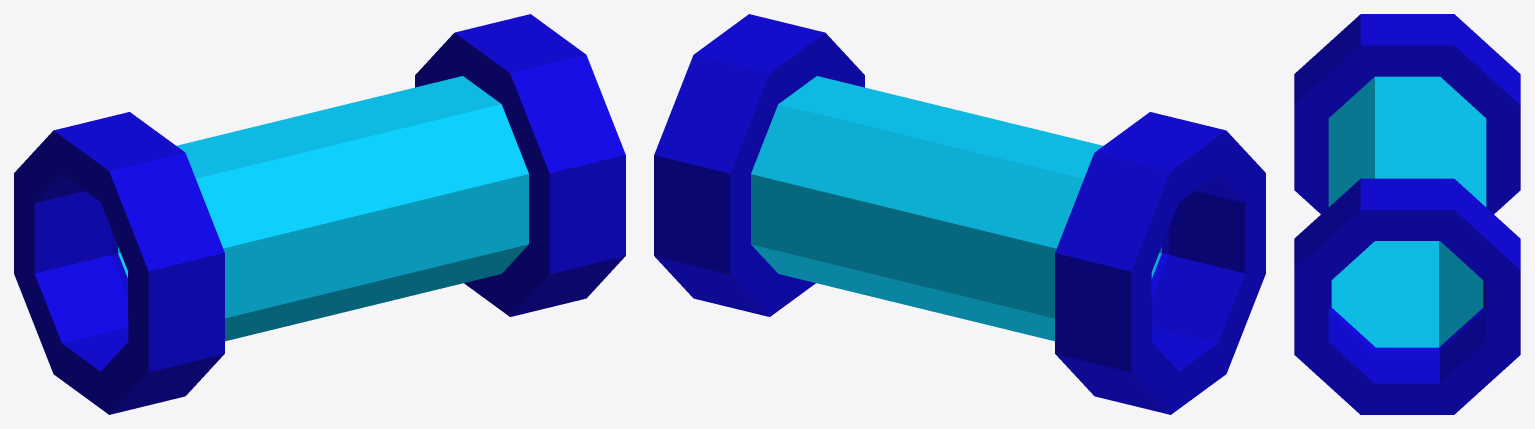
The model's file is pipes 1.0.fbx.
3 views of the same model, side by side, from view 1: azimuth 30°, elevation 25°; view 2: azimuth 150°, elevation 25°; view 3: azimuth 270°, elevation 25° (orthographic). The views are drawn at different scales.
Visible parts, largest first — view 1: Pipe 1; view 2: Pipe 1; view 3: Pipe 1.
Boxes of the visible parts, x1,y1,x2,y2 form: Pipe 1: [14, 14, 625, 414]; Pipe 1: [654, 14, 1265, 414]; Pipe 1: [1294, 14, 1520, 414].
Size of the model in its own units: 70.18 by 34.27 by 34.27.
